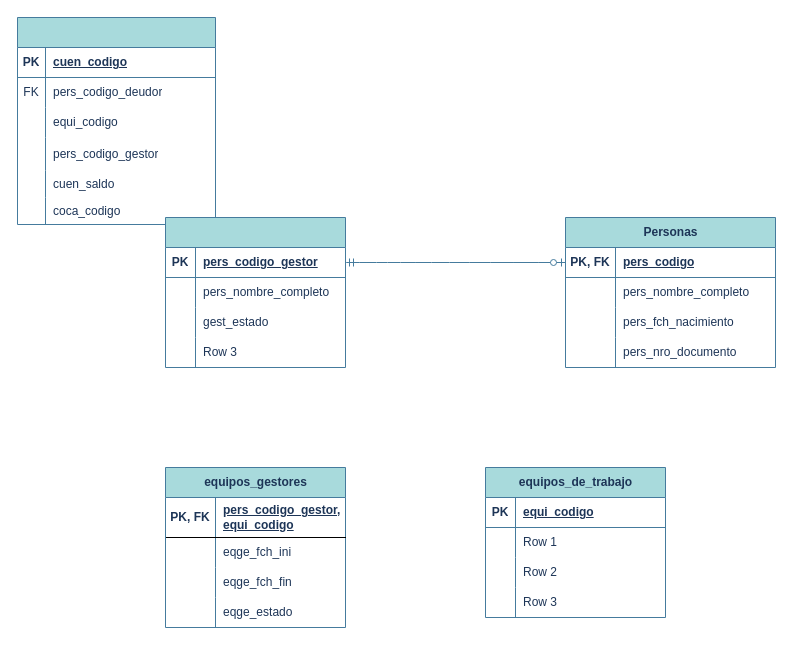
The diagram is 793 pixels wide and 645 high, and some of its shapes have lost their labels. The shapes that lost their labels are listed below. From the top down, each one's box as (x1, y1, x2, y2) in pixels, then its label:
(16, 16, 216, 224): Cuentas
(164, 216, 346, 368): Gestores
